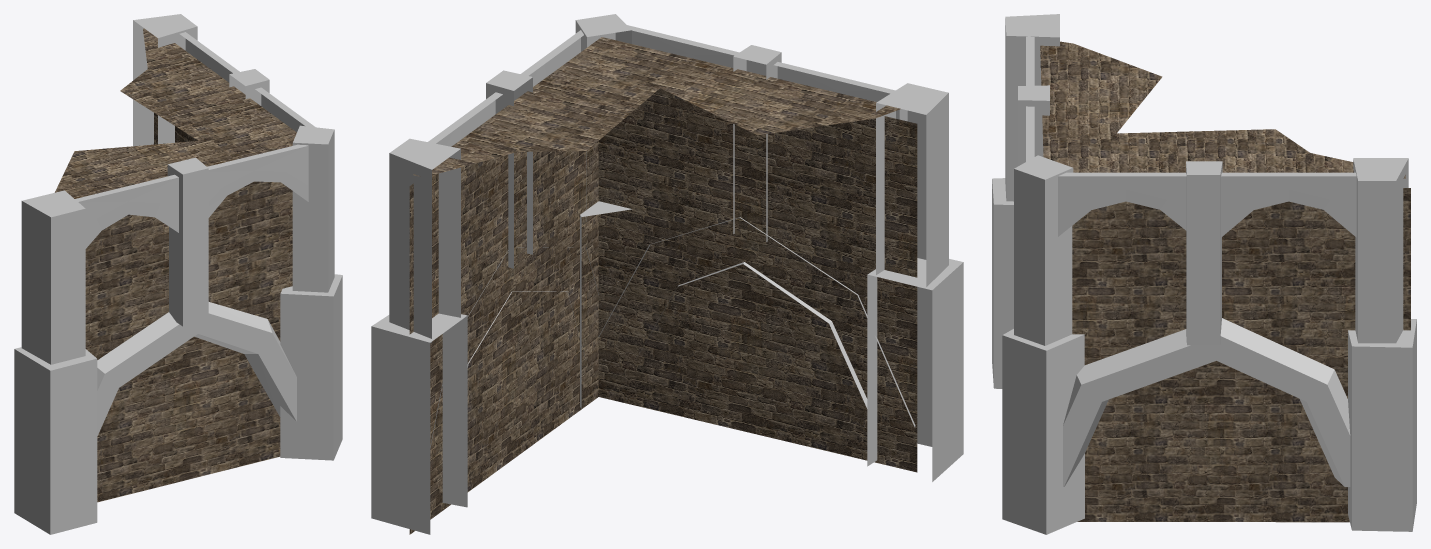
Rendered from SM_EN_2003_Ruin_BuildingLOD01.FBX.
3 renders of one model, left to right at view 1: azimuth 30°, elevation 25°; view 2: azimuth 150°, elevation 25°; view 3: azimuth 270°, elevation 25°, orthographic. The views are drawn at different scales.
Visible parts, largest first — view 1: SM_EN_2003_Ruin_BuildingLOD01a, SM_EN_2003_Ruin_BuildingLOD01b; view 2: SM_EN_2003_Ruin_BuildingLOD01b, SM_EN_2003_Ruin_BuildingLOD01a; view 3: SM_EN_2003_Ruin_BuildingLOD01a, SM_EN_2003_Ruin_BuildingLOD01b.
Boxes of the visible parts, <box> form: SM_EN_2003_Ruin_BuildingLOD01a: <box>14,14,342,534</box>; SM_EN_2003_Ruin_BuildingLOD01b: <box>55,28,296,502</box>; SM_EN_2003_Ruin_BuildingLOD01b: <box>409,37,917,534</box>; SM_EN_2003_Ruin_BuildingLOD01a: <box>371,14,963,534</box>; SM_EN_2003_Ruin_BuildingLOD01a: <box>992,14,1416,534</box>; SM_EN_2003_Ruin_BuildingLOD01b: <box>1040,41,1410,522</box>.
Bounding box in the file's own units: 508 × 480 × 516.
